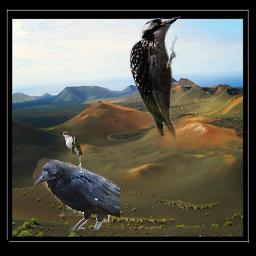Crow: (33, 158, 120, 230)
Cuckoo: (59, 131, 82, 175)
Woodpecker: (125, 10, 185, 143)
